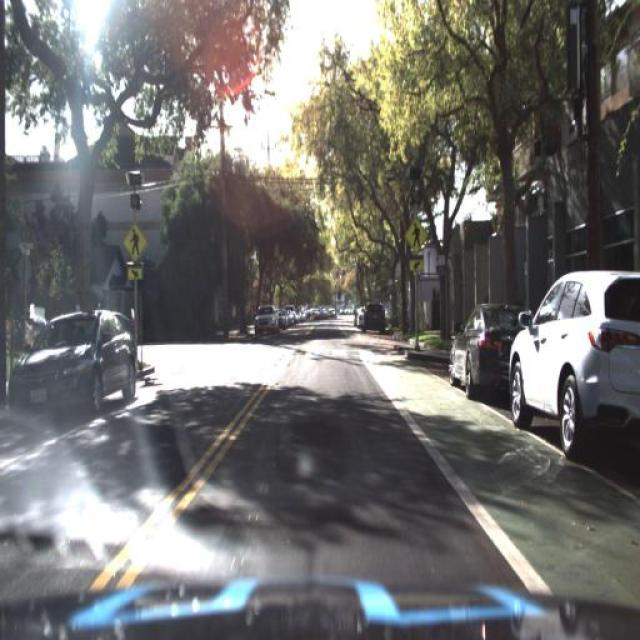car: (512, 258, 638, 458), (8, 302, 142, 424), (448, 296, 528, 400), (445, 304, 529, 392), (359, 296, 388, 332), (252, 303, 280, 339), (362, 299, 388, 330)
